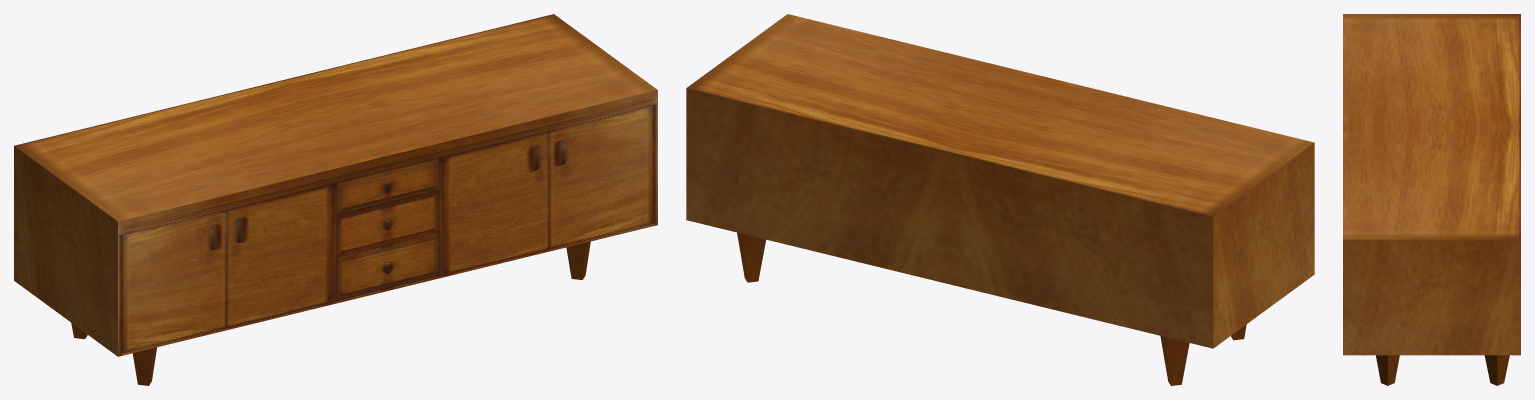
Rendered from credenza.fbx.
3 renders of one model, left to right at view 1: azimuth 30°, elevation 25°; view 2: azimuth 150°, elevation 25°; view 3: azimuth 270°, elevation 25°, orthographic. The views are drawn at different scales.
Parts seen in each view (by area): view 1: credenza; view 2: credenza; view 3: credenza.
Part boxes in pixels (x1,y1,x2,y2): credenza: [14, 14, 657, 385]; credenza: [686, 14, 1314, 385]; credenza: [1343, 14, 1520, 385].
Bounding box in the file's own units: 293 × 100 × 97.52.
1 material, 1 textured.
